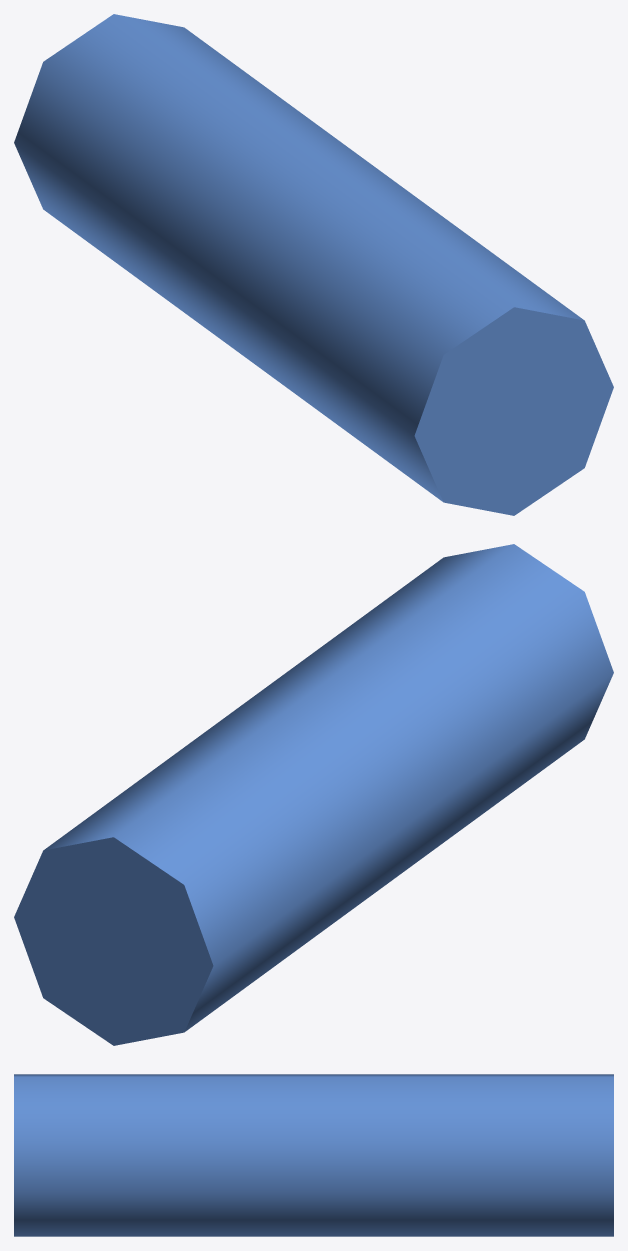
File: support-large-horizontal.glb
The picture shows the model from 3 angles, top to bottom: view 1: azimuth 30°, elevation 25°; view 2: azimuth 150°, elevation 25°; view 3: azimuth 270°, elevation 25°; orthographic projection. The views are drawn at different scales.
Parts seen in each view (by area): view 1: support-large-horizontal; view 2: support-large-horizontal; view 3: support-large-horizontal.
Part boxes in pixels (<box>): support-large-horizontal: <box>14,14,613,515</box>; support-large-horizontal: <box>14,544,613,1045</box>; support-large-horizontal: <box>14,1074,613,1236</box>.
Size of the model in its own units: 0.2876 by 0.2876 by 1.
Materials: 1 (1 with a texture image).
